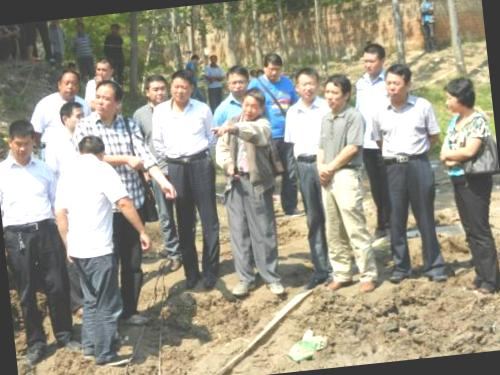no_helmet: (3, 116, 40, 166), (88, 75, 126, 121), (379, 60, 417, 106), (442, 74, 479, 121), (318, 69, 357, 113), (74, 128, 112, 168), (165, 65, 201, 107), (290, 64, 322, 108), (356, 40, 390, 79), (56, 98, 88, 134), (237, 88, 270, 122), (222, 63, 252, 100), (142, 71, 170, 108), (54, 64, 84, 98), (260, 50, 286, 82), (94, 53, 118, 84)
